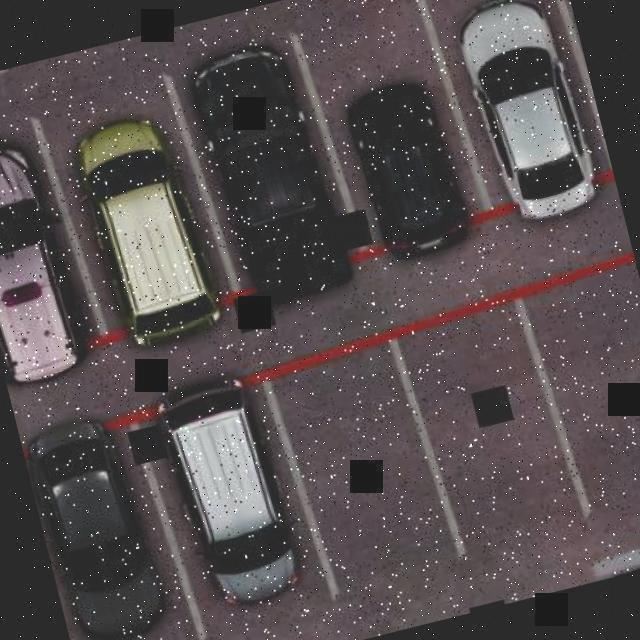space-empty: (272, 336, 474, 624), (401, 301, 594, 573), (526, 261, 640, 542)
space-occupied: (178, 28, 370, 323), (136, 355, 316, 630), (69, 105, 233, 350), (442, 0, 614, 231), (19, 411, 171, 640), (0, 116, 102, 388), (341, 80, 476, 272)
